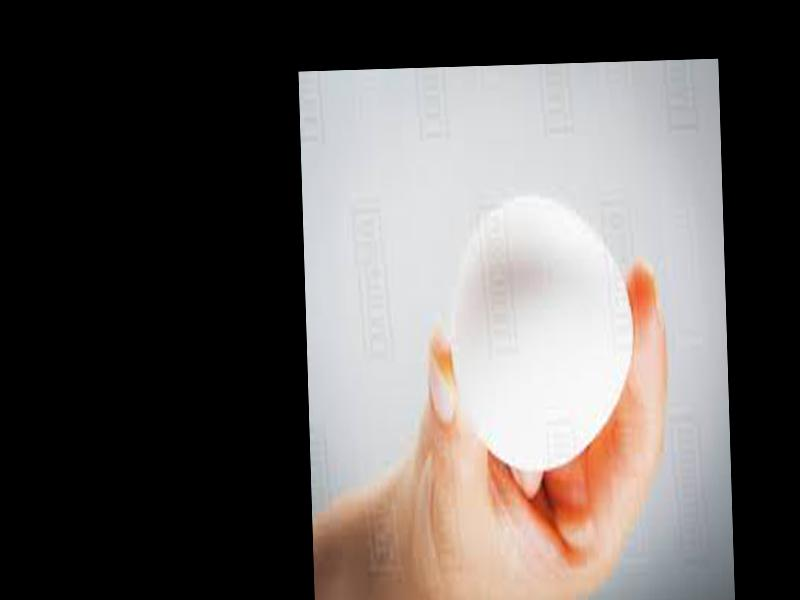Eggs: (450, 193, 637, 471)
